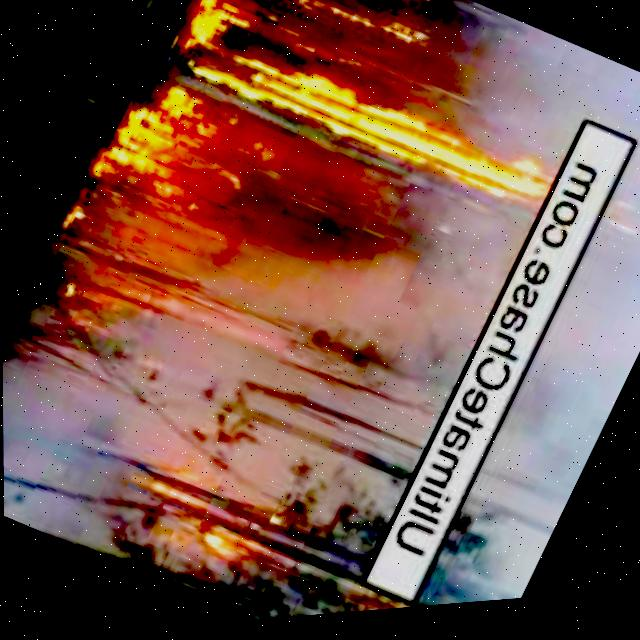Fire: (166, 0, 574, 247), (85, 67, 228, 239), (56, 252, 191, 356), (176, 485, 283, 584)
Smoke: (132, 113, 532, 599), (419, 184, 640, 613), (410, 0, 640, 211), (2, 289, 152, 550)
